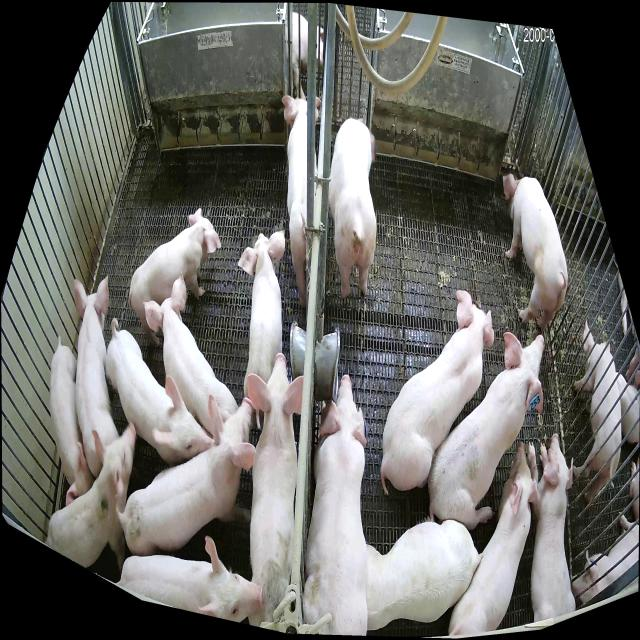pig: (381, 289, 495, 494), (429, 332, 545, 530), (116, 396, 256, 555), (449, 442, 539, 633), (304, 375, 368, 638), (106, 317, 214, 465), (247, 353, 304, 628), (143, 272, 237, 432), (46, 422, 135, 573), (364, 519, 481, 630), (116, 536, 265, 623), (128, 208, 221, 345), (502, 173, 569, 333), (74, 275, 119, 478), (529, 433, 575, 622), (328, 117, 376, 298), (280, 97, 320, 305), (237, 231, 286, 395), (50, 337, 92, 505)
